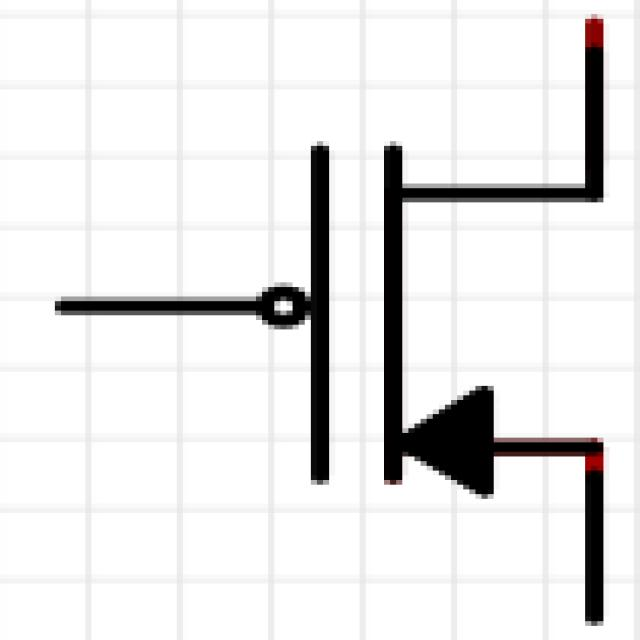pmos: (46, 43, 640, 630)
